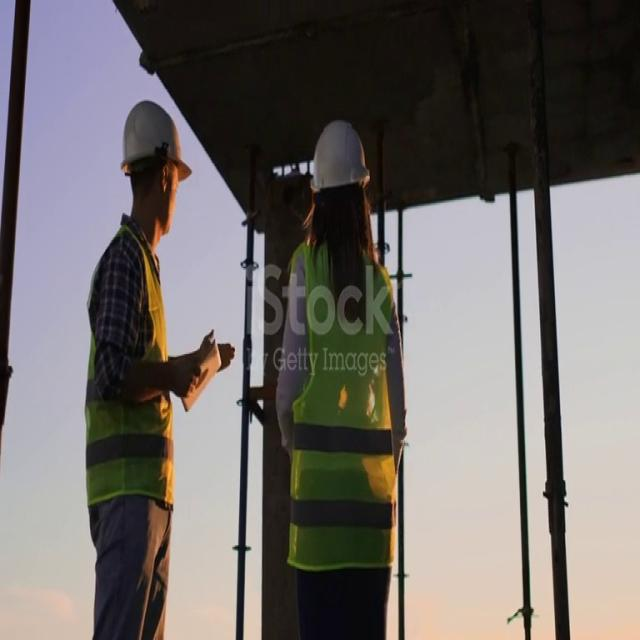capacete: (106, 90, 199, 188), (298, 114, 382, 198)
